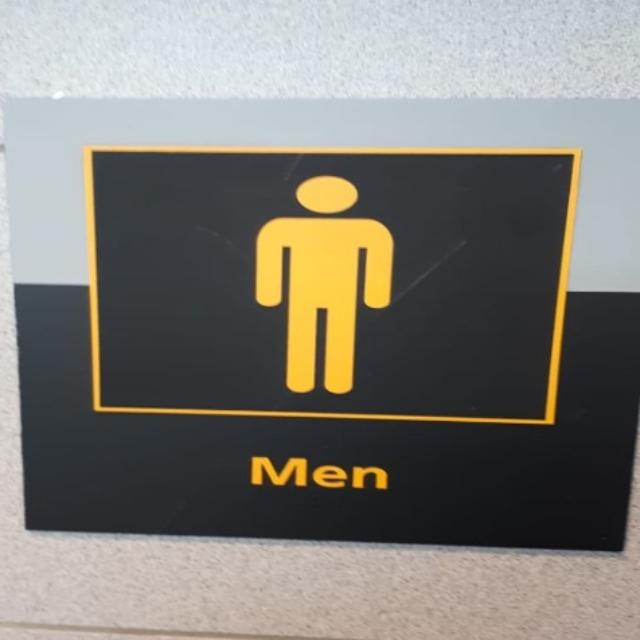wc nam: (7, 99, 639, 547)
